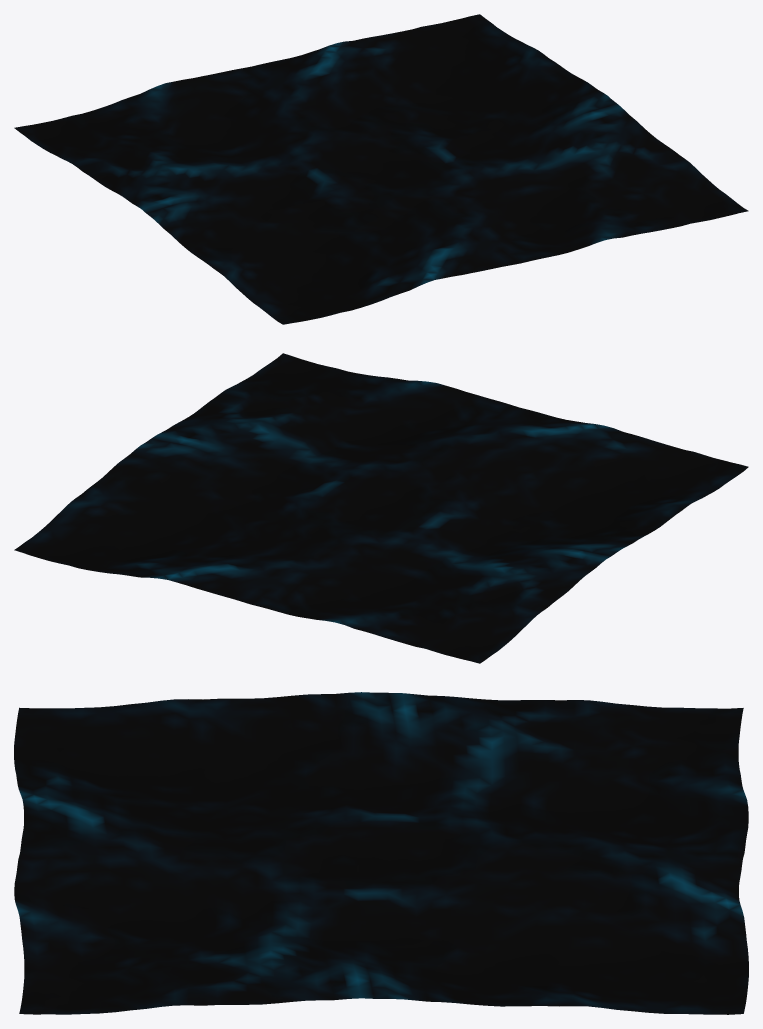
Rendered from Sea(12).glb.
The picture shows the model from 3 angles, top to bottom: view 1: azimuth 30°, elevation 25°; view 2: azimuth 150°, elevation 25°; view 3: azimuth 270°, elevation 25°; orthographic projection. The views are drawn at different scales.
Visible parts, largest first — view 1: Sea; view 2: Sea; view 3: Sea.
Boxes of the visible parts, box(x1,y1,x2,y2) form: Sea: box(14, 14, 748, 324); Sea: box(14, 353, 748, 663); Sea: box(14, 692, 748, 1014).
Size of the model in its own units: 50.43 by 1.85 by 50.72.
